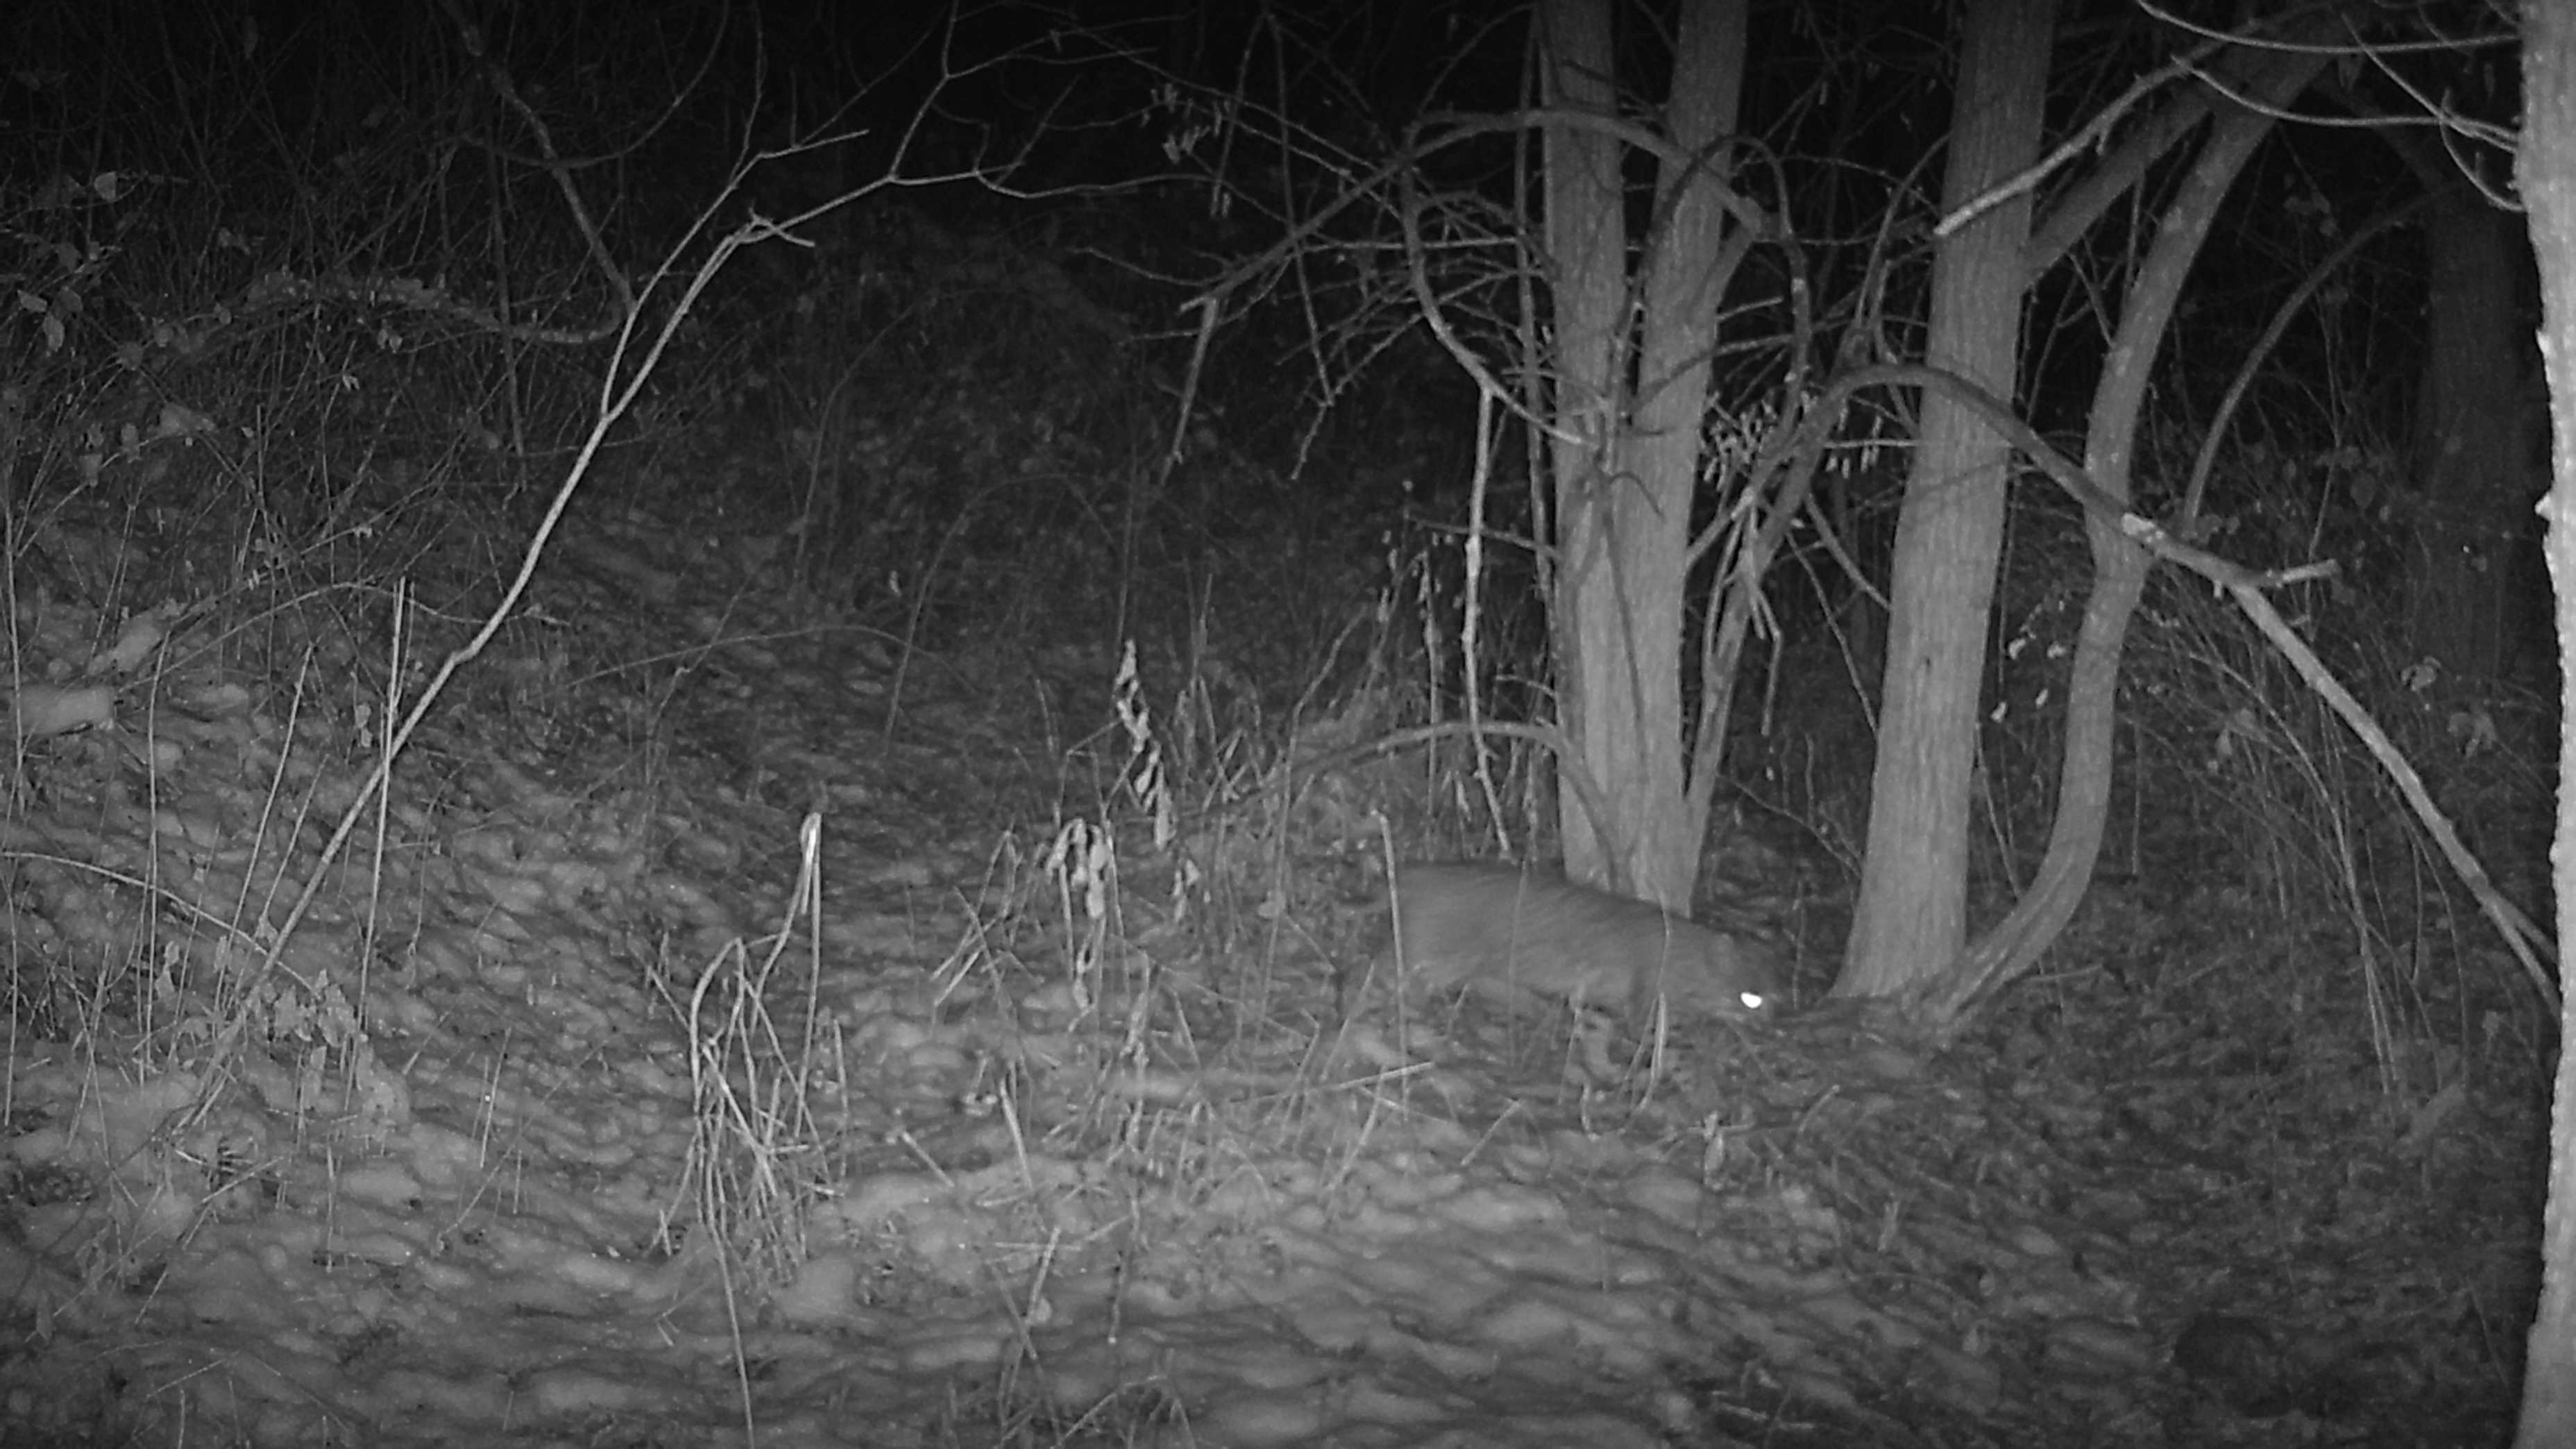Bobcat: (1369, 855, 1798, 1092)
